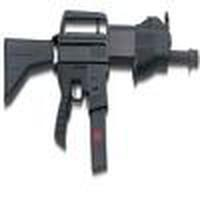gun: (3, 10, 200, 148)
